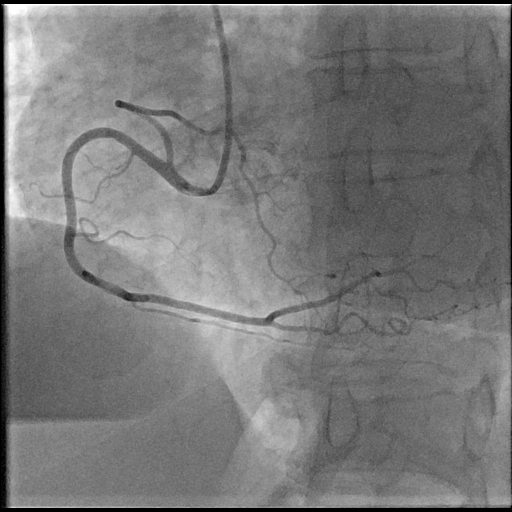RCA: (40, 100, 384, 335)
catherter: (204, 4, 232, 195)
